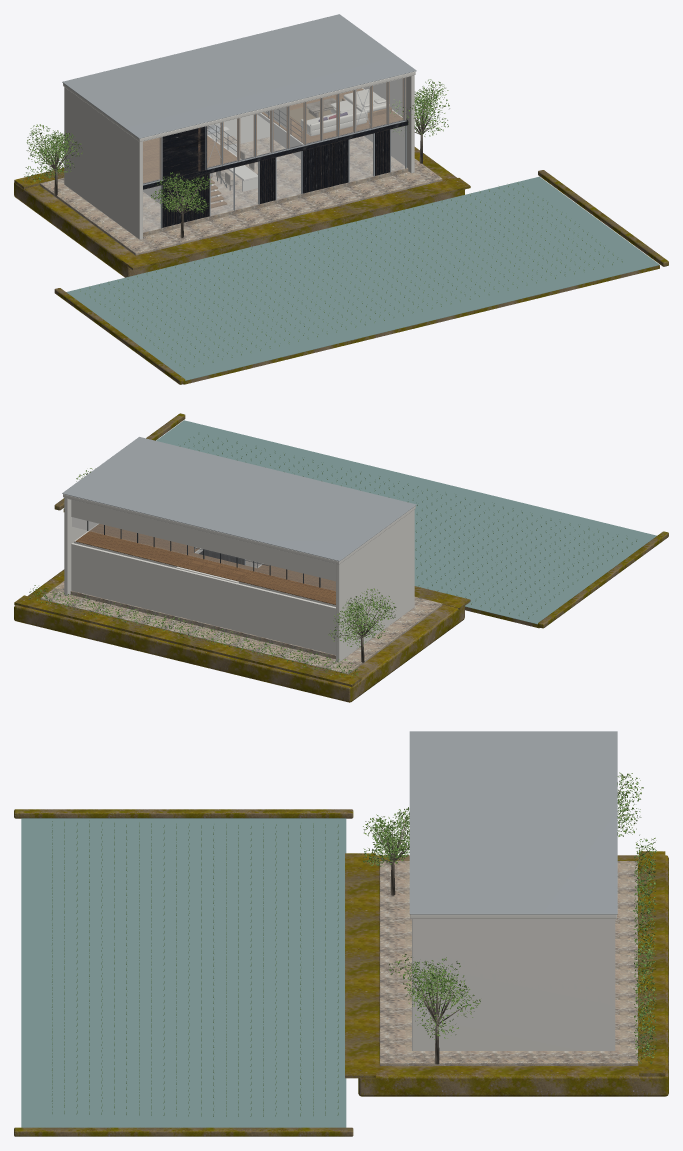
The model's file is hakobune-realistic-web.glb.
The picture shows the model from 3 angles, top to bottom: view 1: azimuth 30°, elevation 25°; view 2: azimuth 150°, elevation 25°; view 3: azimuth 270°, elevation 25°; orthographic projection. The views are drawn at different scales.
Parts seen in each view (by area): view 1: Water, Roof, Frame, Facade, UpperGlass, Landscape, Terrace, Terrain, GroundFloor, FrontGlassLower, Trees, Rice (+9 smaller); view 2: Water, Roof, BackEnvelope, Terrain, Frame, Landscape, Floorboards, Terrace, Trees, RearGlass, GroundFloor, Rice (+1 smaller); view 3: Water, Roof, Frame, Landscape, Terrace, Terrain, Trees, Rice.
Boxes of the visible parts, x1=… form: Water: x1=66, y1=176, x2=659, y2=380; Roof: x1=62, y1=14, x2=416, y2=141; Frame: x1=64, y1=75, x2=414, y2=239; Facade: x1=143, y1=119, x2=408, y2=228; UpperGlass: x1=143, y1=78, x2=405, y2=184; Landscape: x1=14, y1=168, x2=668, y2=384; Terrace: x1=40, y1=158, x2=442, y2=255; Terrain: x1=14, y1=147, x2=464, y2=277; GroundFloor: x1=143, y1=136, x2=408, y2=236; FrontGlassLower: x1=143, y1=126, x2=405, y2=232; Trees: x1=23, y1=79, x2=449, y2=237; Rice: x1=80, y1=183, x2=622, y2=369; Water: x1=64, y1=420, x2=656, y2=624; Roof: x1=62, y1=437, x2=416, y2=564; BackEnvelope: x1=71, y1=500, x2=335, y2=654; Terrain: x1=14, y1=569, x2=464, y2=702; Frame: x1=64, y1=497, x2=414, y2=662; Landscape: x1=14, y1=413, x2=668, y2=687; Floorboards: x1=75, y1=524, x2=335, y2=604; Terrace: x1=40, y1=560, x2=442, y2=674; Trees: x1=29, y1=468, x2=396, y2=678; RearGlass: x1=72, y1=517, x2=335, y2=590; GroundFloor: x1=70, y1=590, x2=335, y2=659; Rice: x1=179, y1=433, x2=636, y2=618; Water: x1=21, y1=818, x2=346, y2=1127; Roof: x1=409, y1=731, x2=617, y2=918; Frame: x1=412, y1=919, x2=615, y2=1050; Landscape: x1=14, y1=809, x2=665, y2=1136; Terrace: x1=379, y1=861, x2=637, y2=1065; Terrain: x1=358, y1=855, x2=668, y2=1096; Trees: x1=360, y1=772, x2=656, y2=1064; Rice: x1=52, y1=820, x2=338, y2=1116.
Size of the model in its own units: 31.9 by 7.58 by 27.4.
Materials: 73 (44 with a texture image).
